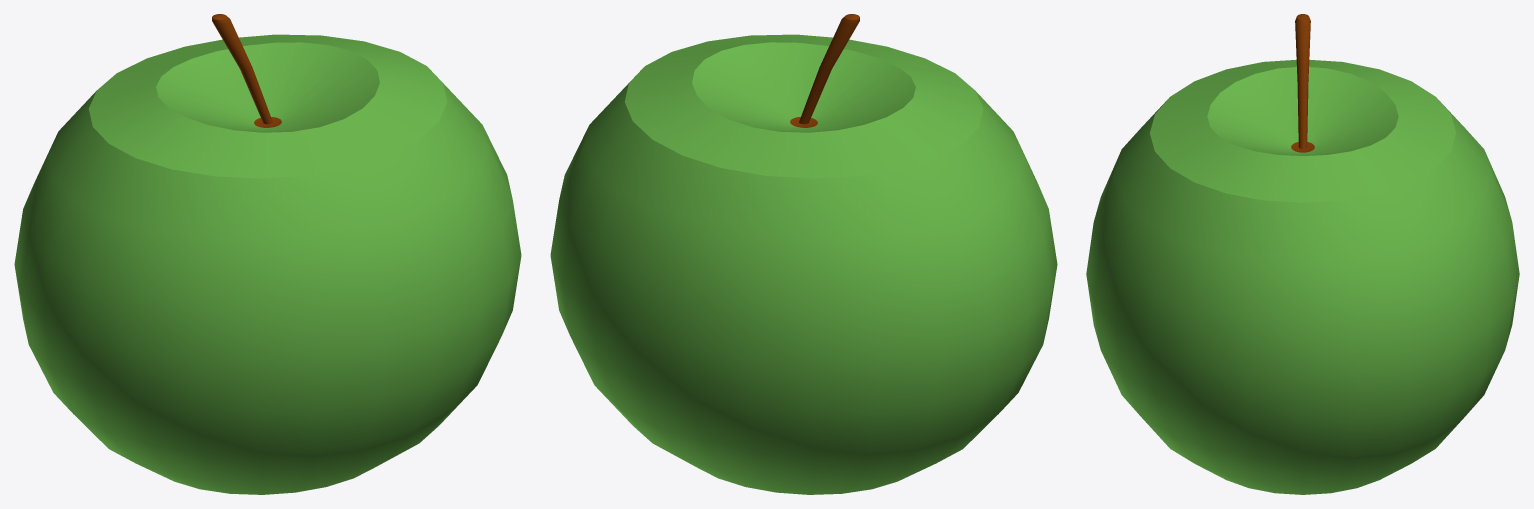
The model's file is objectsdebouffe_2.fbx.
3 views of the same model, side by side, from view 1: azimuth 30°, elevation 25°; view 2: azimuth 150°, elevation 25°; view 3: azimuth 270°, elevation 25° (orthographic). The views are drawn at different scales.
Parts seen in each view (by area): view 1: objectsdebouffe_2; view 2: objectsdebouffe_2; view 3: objectsdebouffe_2.
Part boxes in pixels (box(x1,y1,x2,y2)): objectsdebouffe_2: box(14, 14, 521, 494); objectsdebouffe_2: box(550, 14, 1057, 494); objectsdebouffe_2: box(1086, 14, 1519, 494).
Bounding box in the file's own units: 31.46 × 29.43 × 28.41.
